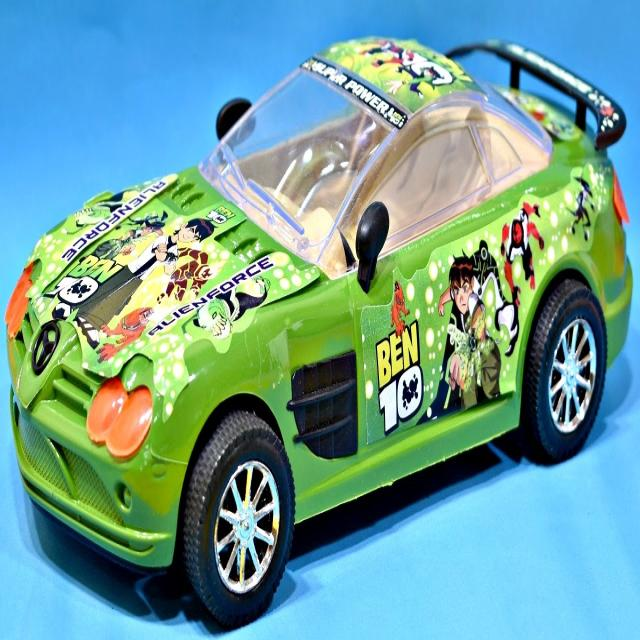Car: (6, 37, 632, 628)
